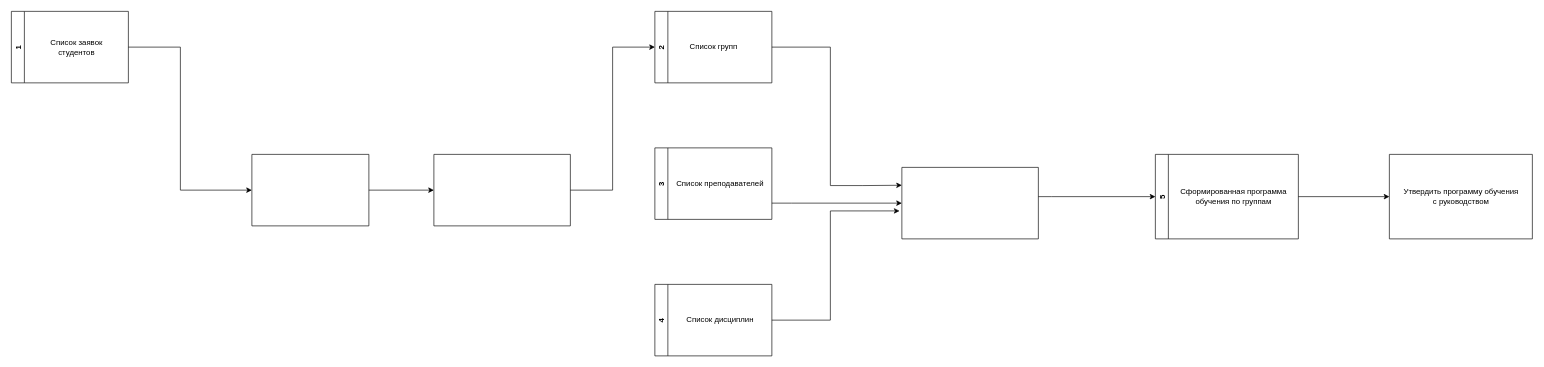
This 1544x367 diagram has some shape labels left out. Each missing label, with the centre of its shape:
"Анализ выбора специальности студентами" belongs at pixel 310 190.
"Формирование групп" belongs at pixel 501 190.
"Формирование программы обучения" belongs at pixel 969 203.
